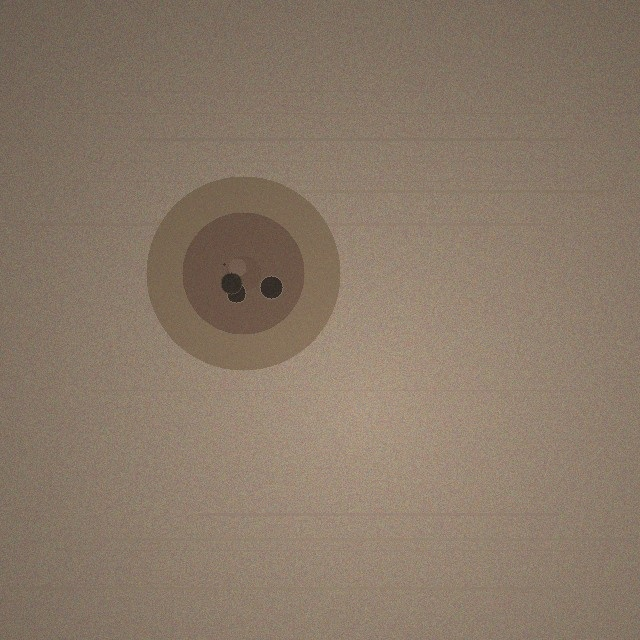shrinkage: (146, 176, 340, 370)
